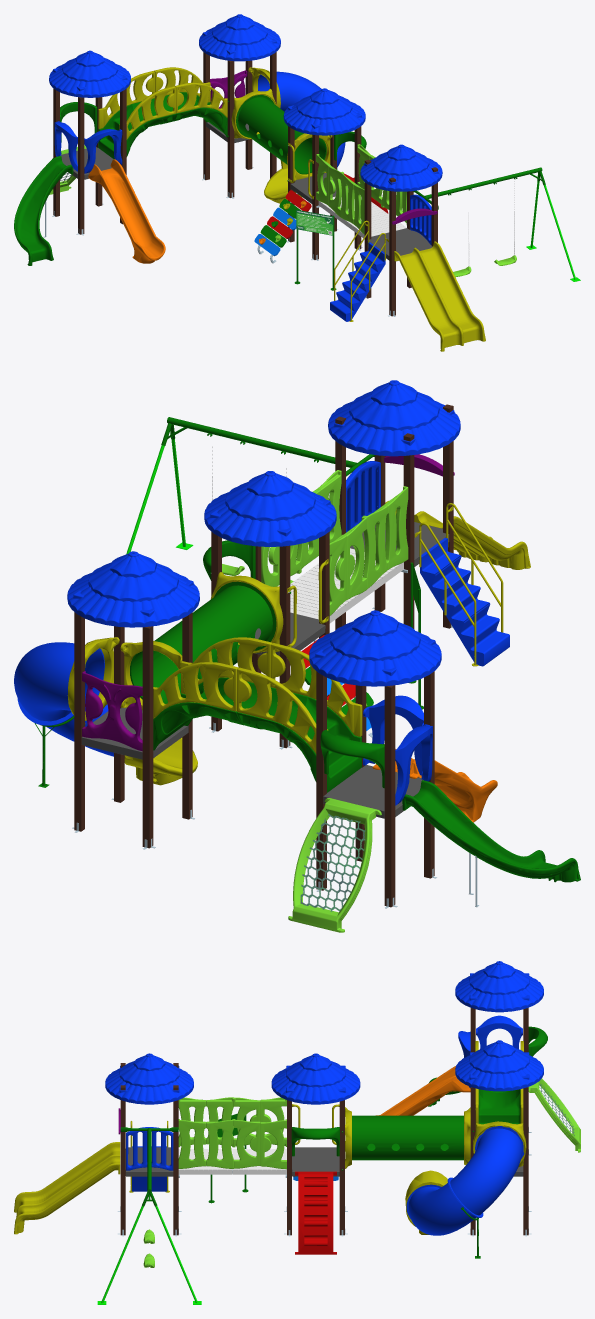
3 renders of one model, top to bottom at view 1: azimuth 30°, elevation 25°; view 2: azimuth 150°, elevation 25°; view 3: azimuth 270°, elevation 25°, orthographic. The views are drawn at different scales.
Visible parts, largest first — view 1: object 5, object 15, object 27, TOLDO M2.003, TOLDO M2.001, TOLDO M2.002, TOLDO M2, object 12, object 19, LATERAL M1.002, LATERAL M1.003, COLUNA MAD PLAST 9 X 9CM.007 (+20 smaller); view 2: object 5, object 15, TOLDO M2.002, TOLDO M2.001, TOLDO M2.003, TOLDO M2, object 27, object 12, LATERAL M1, LATERAL M1.001, COLUNA MAD PLAST 9 X 9CM.008, COLUNA MAD PLAST 9 X 9CM.021 (+21 smaller); view 3: object 5, object 15, object 12, TOLDO M2.003, TOLDO M2.002, TOLDO M2.001, TOLDO M2, object 27, object 19, PLATAFORMA M1.004, COLUNA MAD PLAST 9 X 9CM.011, COLUNA MAD PLAST 9 X 9CM.005 (+7 smaller).
Part boxes in pixels (x1=…): object 5: x1=14, y1=67, x2=485, y2=351; object 15: x1=49, y1=144, x2=545, y2=235; object 27: x1=43, y1=159, x2=165, y2=263; TOLDO M2.003: x1=283, y1=88, x2=365, y2=135; TOLDO M2.001: x1=199, y1=14, x2=280, y2=61; TOLDO M2.002: x1=49, y1=50, x2=130, y2=97; TOLDO M2: x1=360, y1=144, x2=442, y2=191; object 12: x1=334, y1=173, x2=580, y2=321; object 19: x1=288, y1=143, x2=406, y2=237; LATERAL M1.002: x1=119, y1=86, x2=175, y2=139; LATERAL M1.003: x1=175, y1=82, x2=227, y2=117; COLUNA MAD PLAST 9 X 9CM.007: x1=227, y1=60, x2=234, y2=197; object 5: x1=14, y1=454, x2=580, y2=882; object 15: x1=124, y1=417, x2=420, y2=932; TOLDO M2.002: x1=309, y1=610, x2=441, y2=686; TOLDO M2.001: x1=67, y1=551, x2=199, y2=627; TOLDO M2.003: x1=204, y1=471, x2=336, y2=546; TOLDO M2: x1=328, y1=380, x2=460, y2=456; object 27: x1=300, y1=749, x2=497, y2=911; object 12: x1=126, y1=439, x2=503, y2=666; LATERAL M1: x1=237, y1=667, x2=328, y2=753; LATERAL M1.001: x1=153, y1=662, x2=238, y2=718; COLUNA MAD PLAST 9 X 9CM.008: x1=142, y1=626, x2=153, y2=848; COLUNA MAD PLAST 9 X 9CM.021: x1=384, y1=685, x2=395, y2=907; object 5: x1=14, y1=1015, x2=526, y2=1258; object 15: x1=120, y1=1078, x2=580, y2=1206; object 12: x1=97, y1=1121, x2=336, y2=1304; TOLDO M2.003: x1=271, y1=1053, x2=360, y2=1104; TOLDO M2.002: x1=455, y1=961, x2=543, y2=1012; TOLDO M2.001: x1=455, y1=1040, x2=543, y2=1091; TOLDO M2: x1=105, y1=1053, x2=193, y2=1104; object 27: x1=376, y1=1066, x2=574, y2=1135; object 19: x1=178, y1=1104, x2=339, y2=1174; PLATAFORMA M1.004: x1=292, y1=1147, x2=339, y2=1176; COLUNA MAD PLAST 9 X 9CM.011: x1=523, y1=1087, x2=528, y2=1235; COLUNA MAD PLAST 9 X 9CM.005: x1=173, y1=1085, x2=178, y2=1235.
Size of the model in its own units: 8.6 by 3.46 by 9.75.
Materials: 26 (3 with a texture image).
